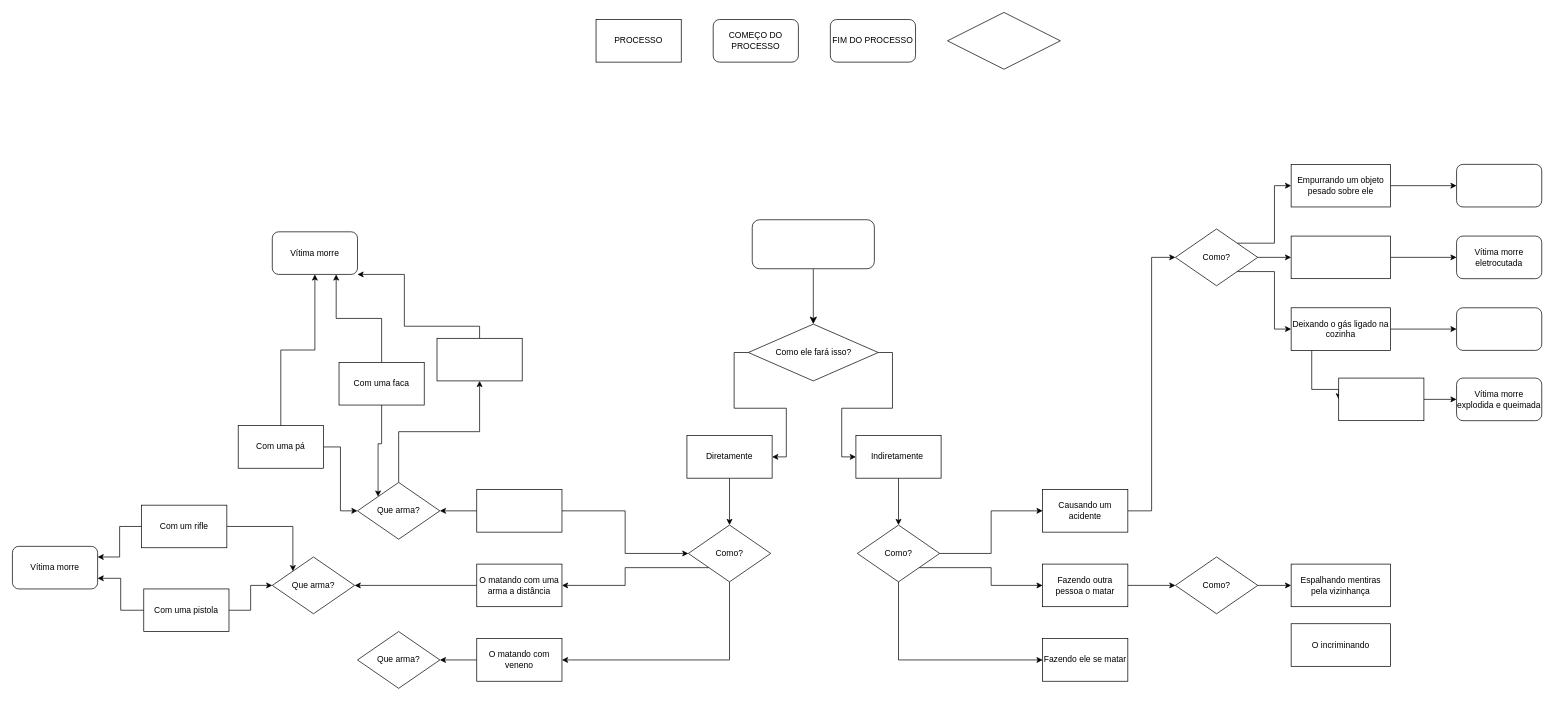
Image size: 1554x701. Some labels were removed from this diagram. The box of each missing label's shape, as (x1, y1, x2, y2) in pixels:
Com talheres afiados: (436, 338, 522, 381)
Gás acende, seja pelo Jogador ou pela vítima: (1338, 377, 1424, 421)
Jogador precisará matar a vítima até o fim da semana: (752, 219, 874, 269)
O matando com uma arma corpo a corpo: (476, 489, 562, 532)
Sabotando sua guitarra, cortando seu fio de aterramento: (1290, 235, 1391, 279)
TOMADA DE DECISÃO: (947, 12, 1060, 69)
Vítima morre asfixiada: (1456, 307, 1542, 350)
Vítima morre esmagada: (1456, 164, 1542, 207)
